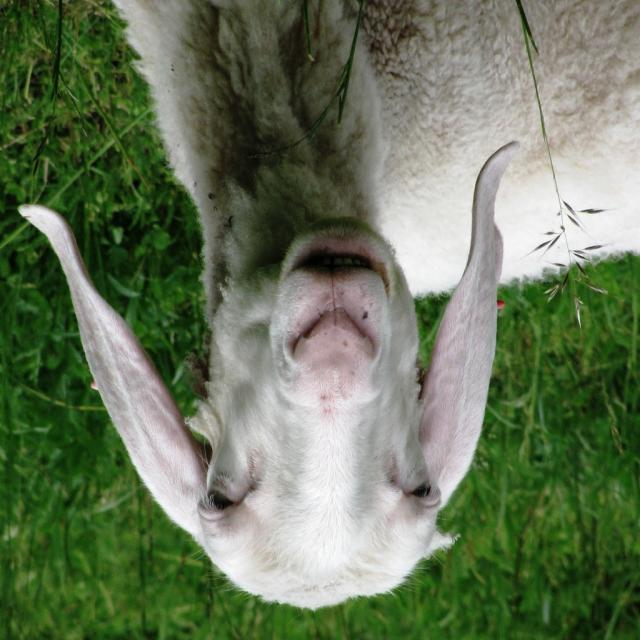Goat: (17, 2, 639, 613)
